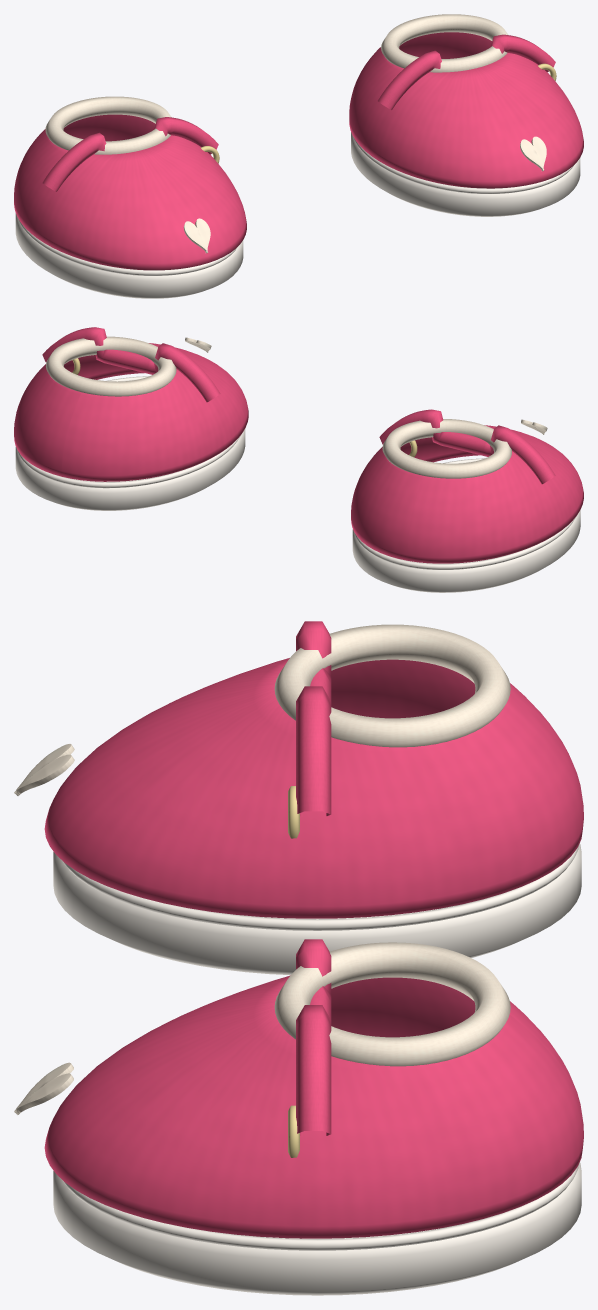
The model's file is restart_shoes_chic_penguin.glb.
3 views of the same model, one above another, from view 1: azimuth 30°, elevation 25°; view 2: azimuth 150°, elevation 25°; view 3: azimuth 270°, elevation 25° (orthographic). The views are drawn at different scales.
Visible parts, largest first — view 1: Calzado · Left · shoes_chic, Calzado · Right · shoes_chic; view 2: Calzado · Left · shoes_chic, Calzado · Right · shoes_chic; view 3: Calzado · Left · shoes_chic, Calzado · Right · shoes_chic.
Boxes of the visible parts, x1,y1,x2,y2 form: Calzado · Left · shoes_chic: (349,14,583,216); Calzado · Right · shoes_chic: (14,96,246,298); Calzado · Left · shoes_chic: (14,327,248,510); Calzado · Right · shoes_chic: (351,409,583,592); Calzado · Left · shoes_chic: (14,939,583,1295); Calzado · Right · shoes_chic: (14,621,583,975).
Size of the model in its own units: 0.6009 by 0.1327 by 0.2908.
Materials: 4 (2 with a texture image).
